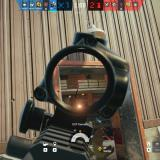Character: (85, 74, 92, 80)
Head: (88, 75, 90, 76)
